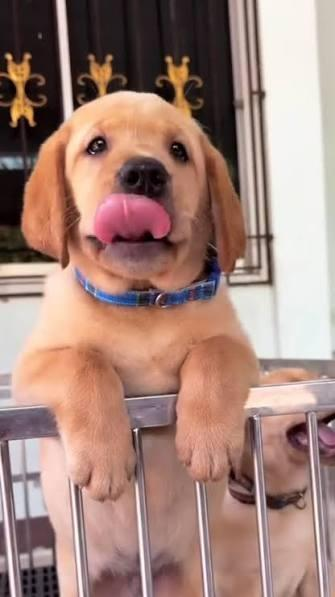puppy-dog: (11, 90, 257, 594), (179, 363, 335, 597)
